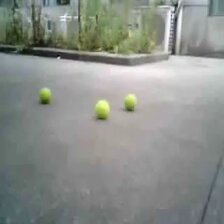tennis: (94, 99, 109, 117), (124, 94, 138, 110), (38, 87, 51, 102)
